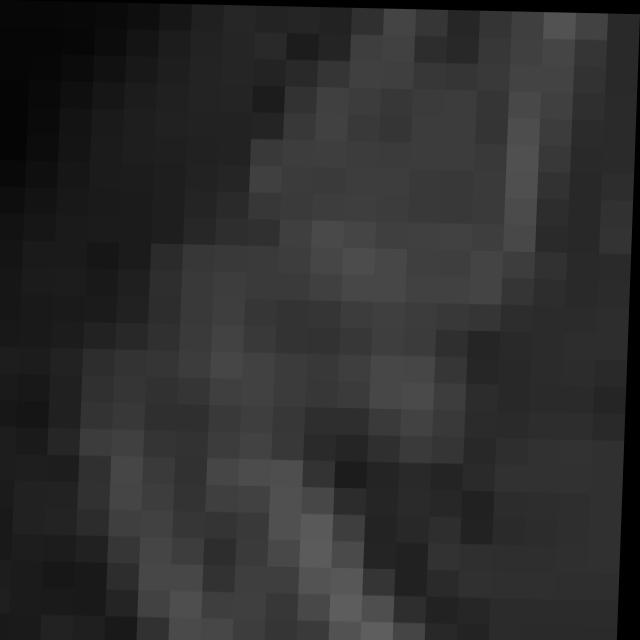fracture: (0, 15, 631, 640)
